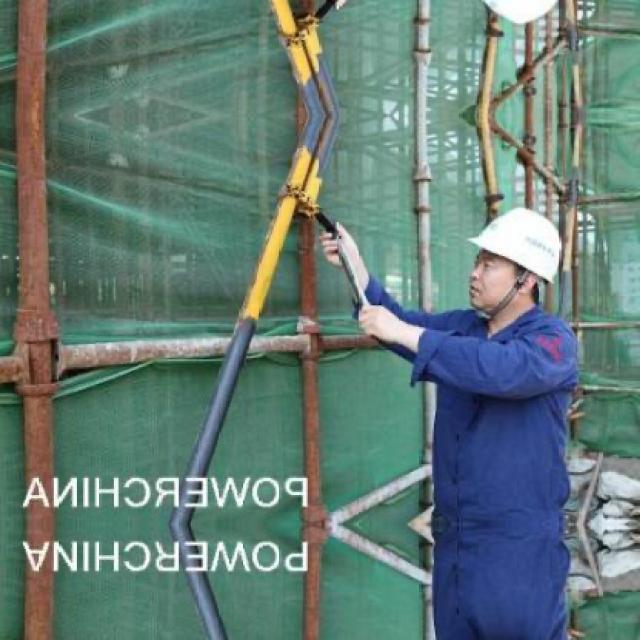con casco: (418, 184, 597, 415)
